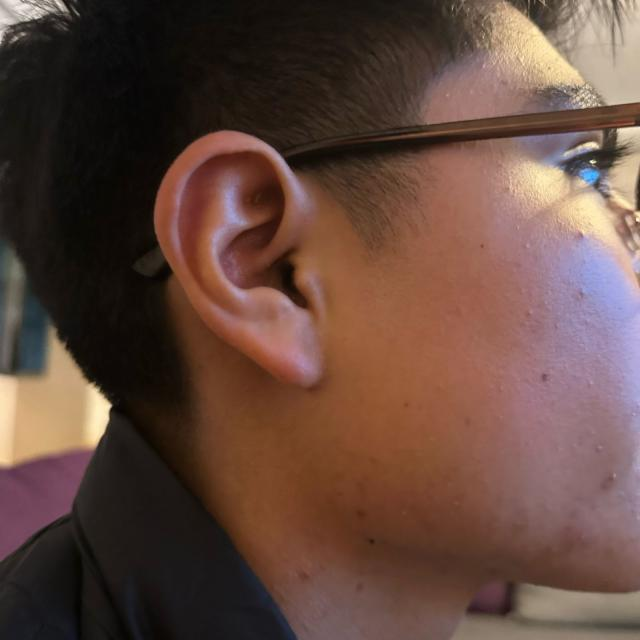ear: (155, 131, 325, 386)
